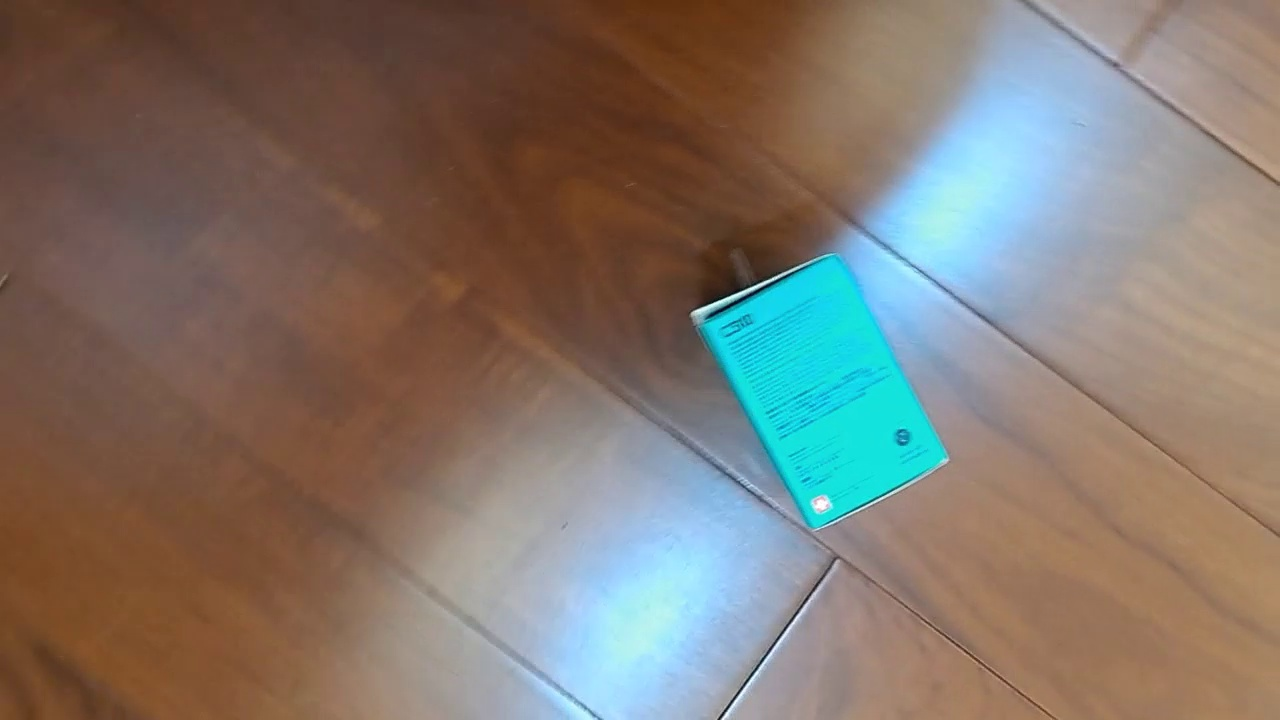webcam: (689, 252, 951, 532)
